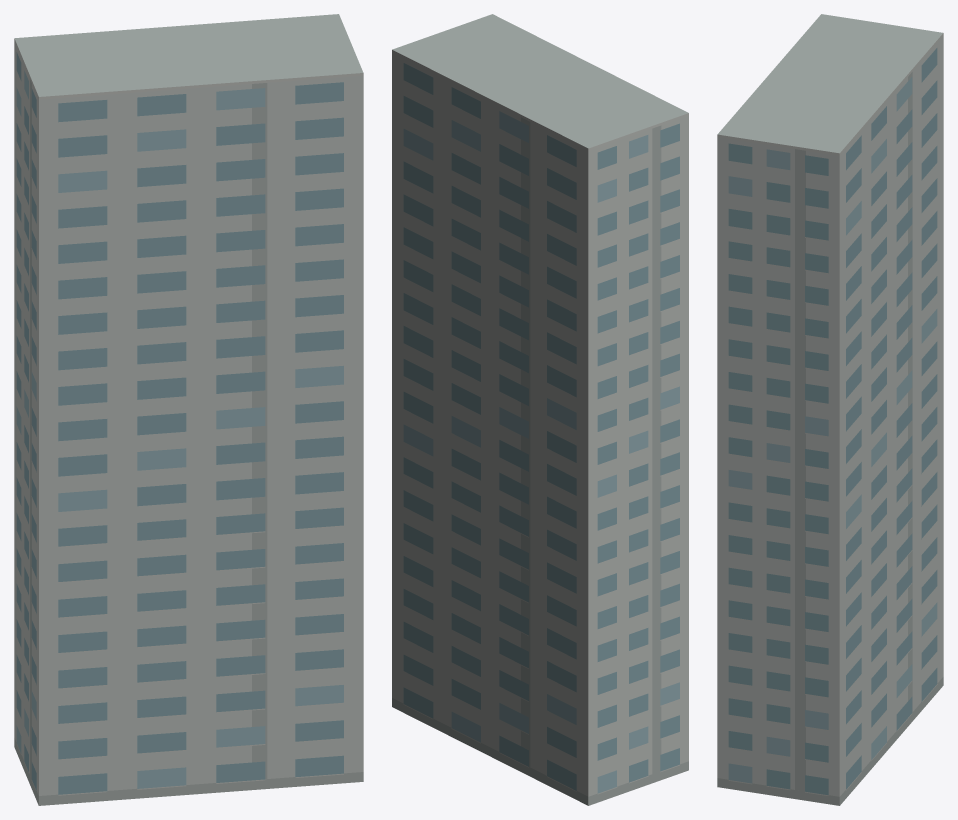
File: residential-62685dcc-ef6b-4f94-b9fc-3c33690eb2b1.glb
3 renders of one model, left to right at view 1: azimuth 30°, elevation 25°; view 2: azimuth 150°, elevation 25°; view 3: azimuth 270°, elevation 25°, orthographic. The views are drawn at different scales.
Parts seen in each view (by area): view 1: residential-62685dcc-ef6b-4f94-b9fc-3c33690eb2b1.tmp; view 2: residential-62685dcc-ef6b-4f94-b9fc-3c33690eb2b1.tmp; view 3: residential-62685dcc-ef6b-4f94-b9fc-3c33690eb2b1.tmp.
Boxes of the visible parts, x1=… form: residential-62685dcc-ef6b-4f94-b9fc-3c33690eb2b1.tmp: x1=14, y1=14, x2=363, y2=805; residential-62685dcc-ef6b-4f94-b9fc-3c33690eb2b1.tmp: x1=392, y1=14, x2=688, y2=805; residential-62685dcc-ef6b-4f94-b9fc-3c33690eb2b1.tmp: x1=717, y1=14, x2=943, y2=805.
Size of the model in its own units: 27.94 by 61 by 19.17.
